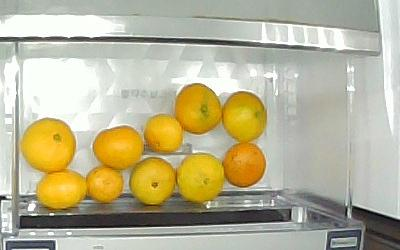tangerine: (21, 117, 76, 173), (174, 83, 223, 135), (177, 153, 225, 204), (224, 89, 269, 143), (91, 126, 143, 171), (131, 159, 175, 206), (36, 170, 88, 208), (224, 140, 266, 187), (145, 114, 183, 154), (87, 164, 124, 203)
